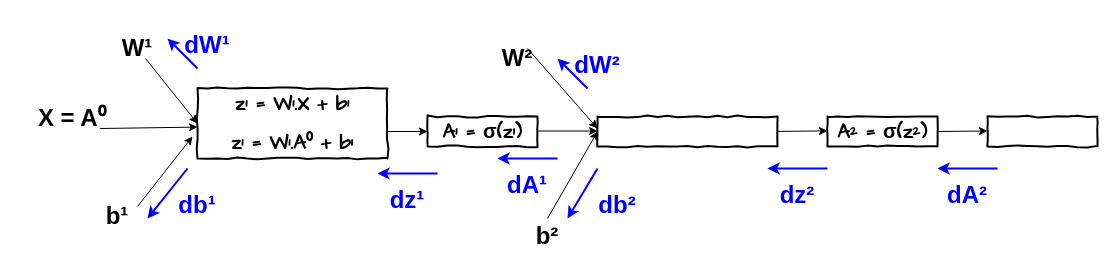
Some shapes in this 1115 by 268 pixel diagram are drawn without their labels. Here are the shapes that lost their labels. From the top down, the centre of each, then its label:
At point (687, 131): "z² = W².A¹ + b²".
At point (1042, 131): "L(A, Y)".
